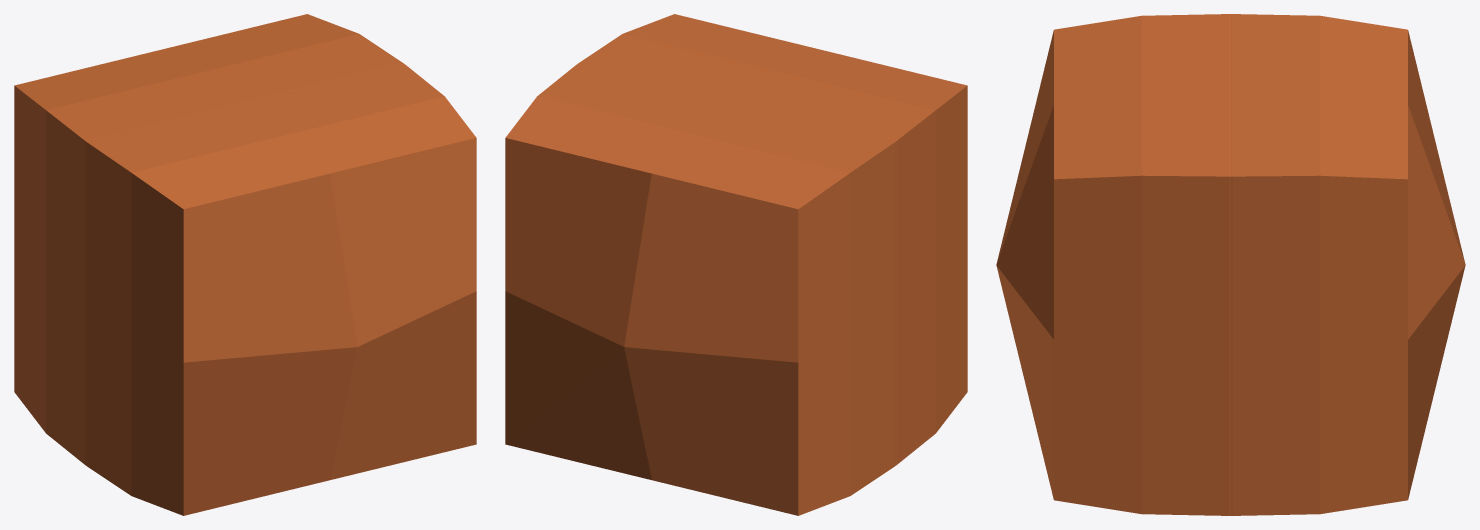
Rendered from пакетик.fbx.
3 views of the same model, side by side, from view 1: azimuth 30°, elevation 25°; view 2: azimuth 150°, elevation 25°; view 3: azimuth 270°, elevation 25° (orthographic). The views are drawn at different scales.
Visible parts, largest first — view 1: пакетик; view 2: пакетик; view 3: пакетик.
Boxes of the visible parts, x1=… form: пакетик: x1=14, y1=14, x2=476, y2=515; пакетик: x1=505, y1=14, x2=967, y2=515; пакетик: x1=996, y1=14, x2=1465, y2=515.
Size of the model in its own units: 2.17 by 2.11 by 2.65.
